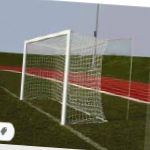goals: (18, 28, 109, 126)
